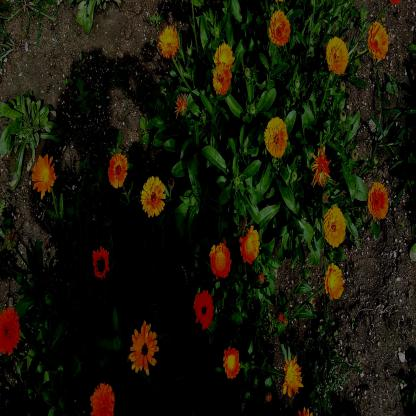marigold: (130, 325, 160, 371), (0, 304, 21, 355), (264, 117, 288, 157), (31, 156, 55, 194), (141, 178, 164, 216), (326, 36, 349, 74), (91, 382, 115, 416), (324, 207, 346, 244), (238, 226, 259, 264), (324, 261, 344, 300), (369, 178, 388, 219), (193, 291, 214, 327), (368, 22, 388, 59), (283, 356, 302, 394), (209, 244, 231, 275), (106, 155, 127, 187), (312, 150, 330, 184), (269, 12, 288, 43), (212, 67, 233, 95), (223, 346, 240, 379), (214, 42, 234, 68), (92, 247, 109, 276), (161, 28, 179, 55)
